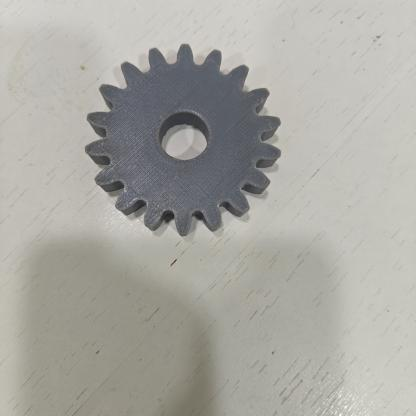gear: (75, 34, 295, 254)
